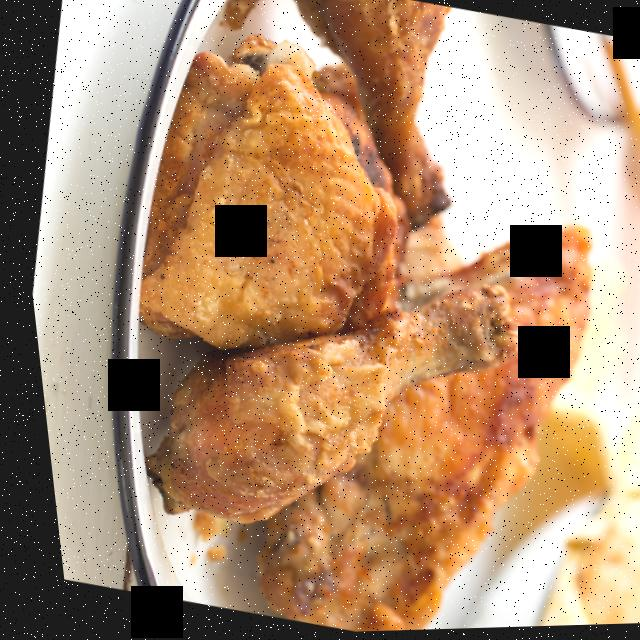Frango: (40, 0, 640, 639)
